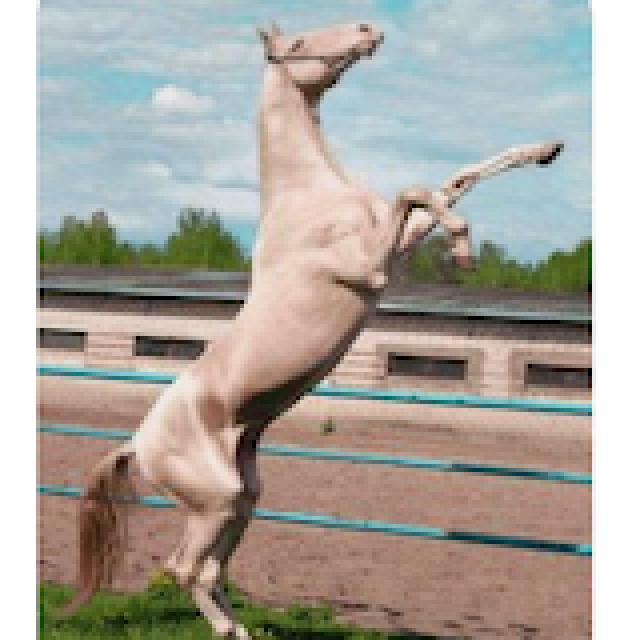Horse: (52, 12, 572, 636)
